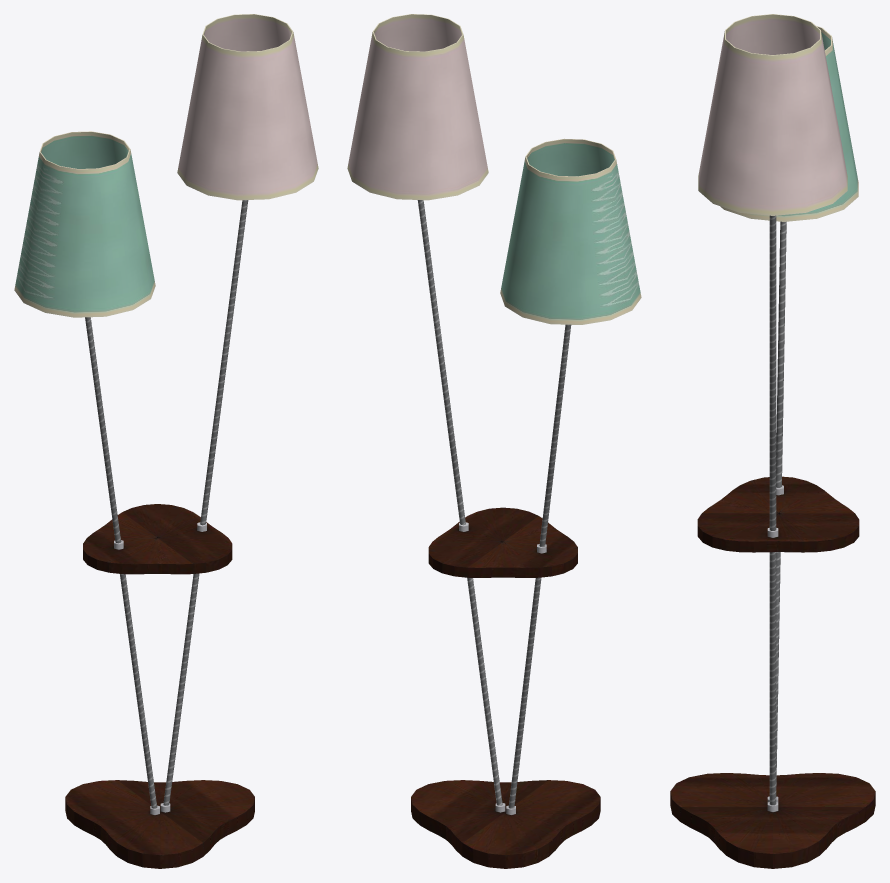
The model's file is floor_lamp_duo_lod1_web.glb.
3 views of the same model, side by side, from view 1: azimuth 30°, elevation 25°; view 2: azimuth 150°, elevation 25°; view 3: azimuth 270°, elevation 25° (orthographic). The views are drawn at different scales.
Parts seen in each view (by area): view 1: Glass_Shade_1, Glass_Shade_2, FloorLampDuo_Body, Chrome_Rods; view 2: Glass_Shade_1, Glass_Shade_2, FloorLampDuo_Body, Chrome_Rods; view 3: Glass_Shade_1, FloorLampDuo_Body, Chrome_Rods, Glass_Shade_2.
Boxes of the visible parts, left/top/right/bottom form: Glass_Shade_1: left=177, top=14, right=318, bottom=200; Glass_Shade_2: left=14, top=131, right=155, bottom=317; FloorLampDuo_Body: left=65, top=504, right=254, bottom=868; Chrome_Rods: left=85, top=200, right=248, bottom=814; Glass_Shade_1: left=347, top=14, right=488, bottom=200; Glass_Shade_2: left=500, top=138, right=641, bottom=324; FloorLampDuo_Body: left=411, top=507, right=600, bottom=868; Chrome_Rods: left=417, top=200, right=571, bottom=814; Glass_Shade_1: left=698, top=14, right=847, bottom=215; FloorLampDuo_Body: left=670, top=476, right=875, bottom=868; Chrome_Rods: left=767, top=215, right=786, bottom=811; Glass_Shade_2: left=720, top=26, right=858, bottom=221.
Bounding box in the file's own units: 0.64 × 1.68 × 0.3748.
Materials: 5 (5 with a texture image).
